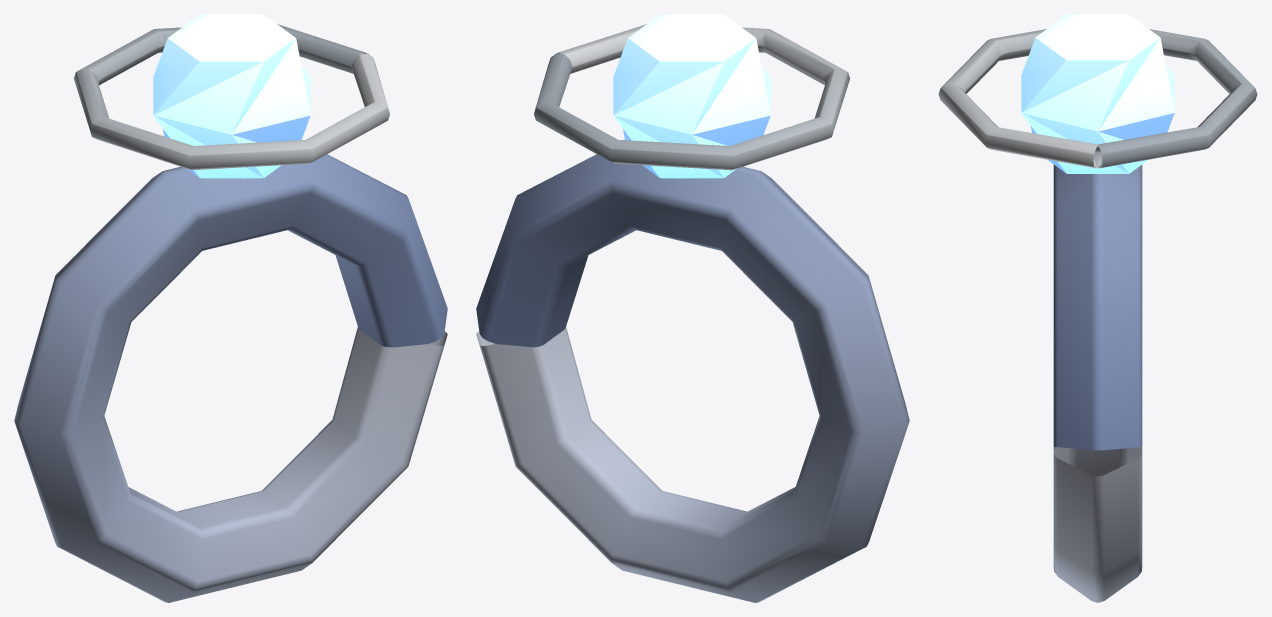
Rendered from spirit_ring.glb.
The picture shows the model from 3 angles, left to right: view 1: azimuth 30°, elevation 25°; view 2: azimuth 150°, elevation 25°; view 3: azimuth 270°, elevation 25°; orthographic projection. The views are drawn at different scales.
Parts seen in each view (by area): view 1: spirit_ring, spirit_ring_glow; view 2: spirit_ring, spirit_ring_glow; view 3: spirit_ring, spirit_ring_glow.
Boxes of the visible parts, x1,y1,x2,y2 form: spirit_ring: [14, 24, 447, 602]; spirit_ring_glow: [153, 14, 310, 178]; spirit_ring: [476, 24, 909, 602]; spirit_ring_glow: [613, 14, 770, 178]; spirit_ring: [938, 29, 1257, 602]; spirit_ring_glow: [1021, 14, 1174, 173].
Bounding box in the file's own units: 0.4921 × 0.6251 × 0.3243.
